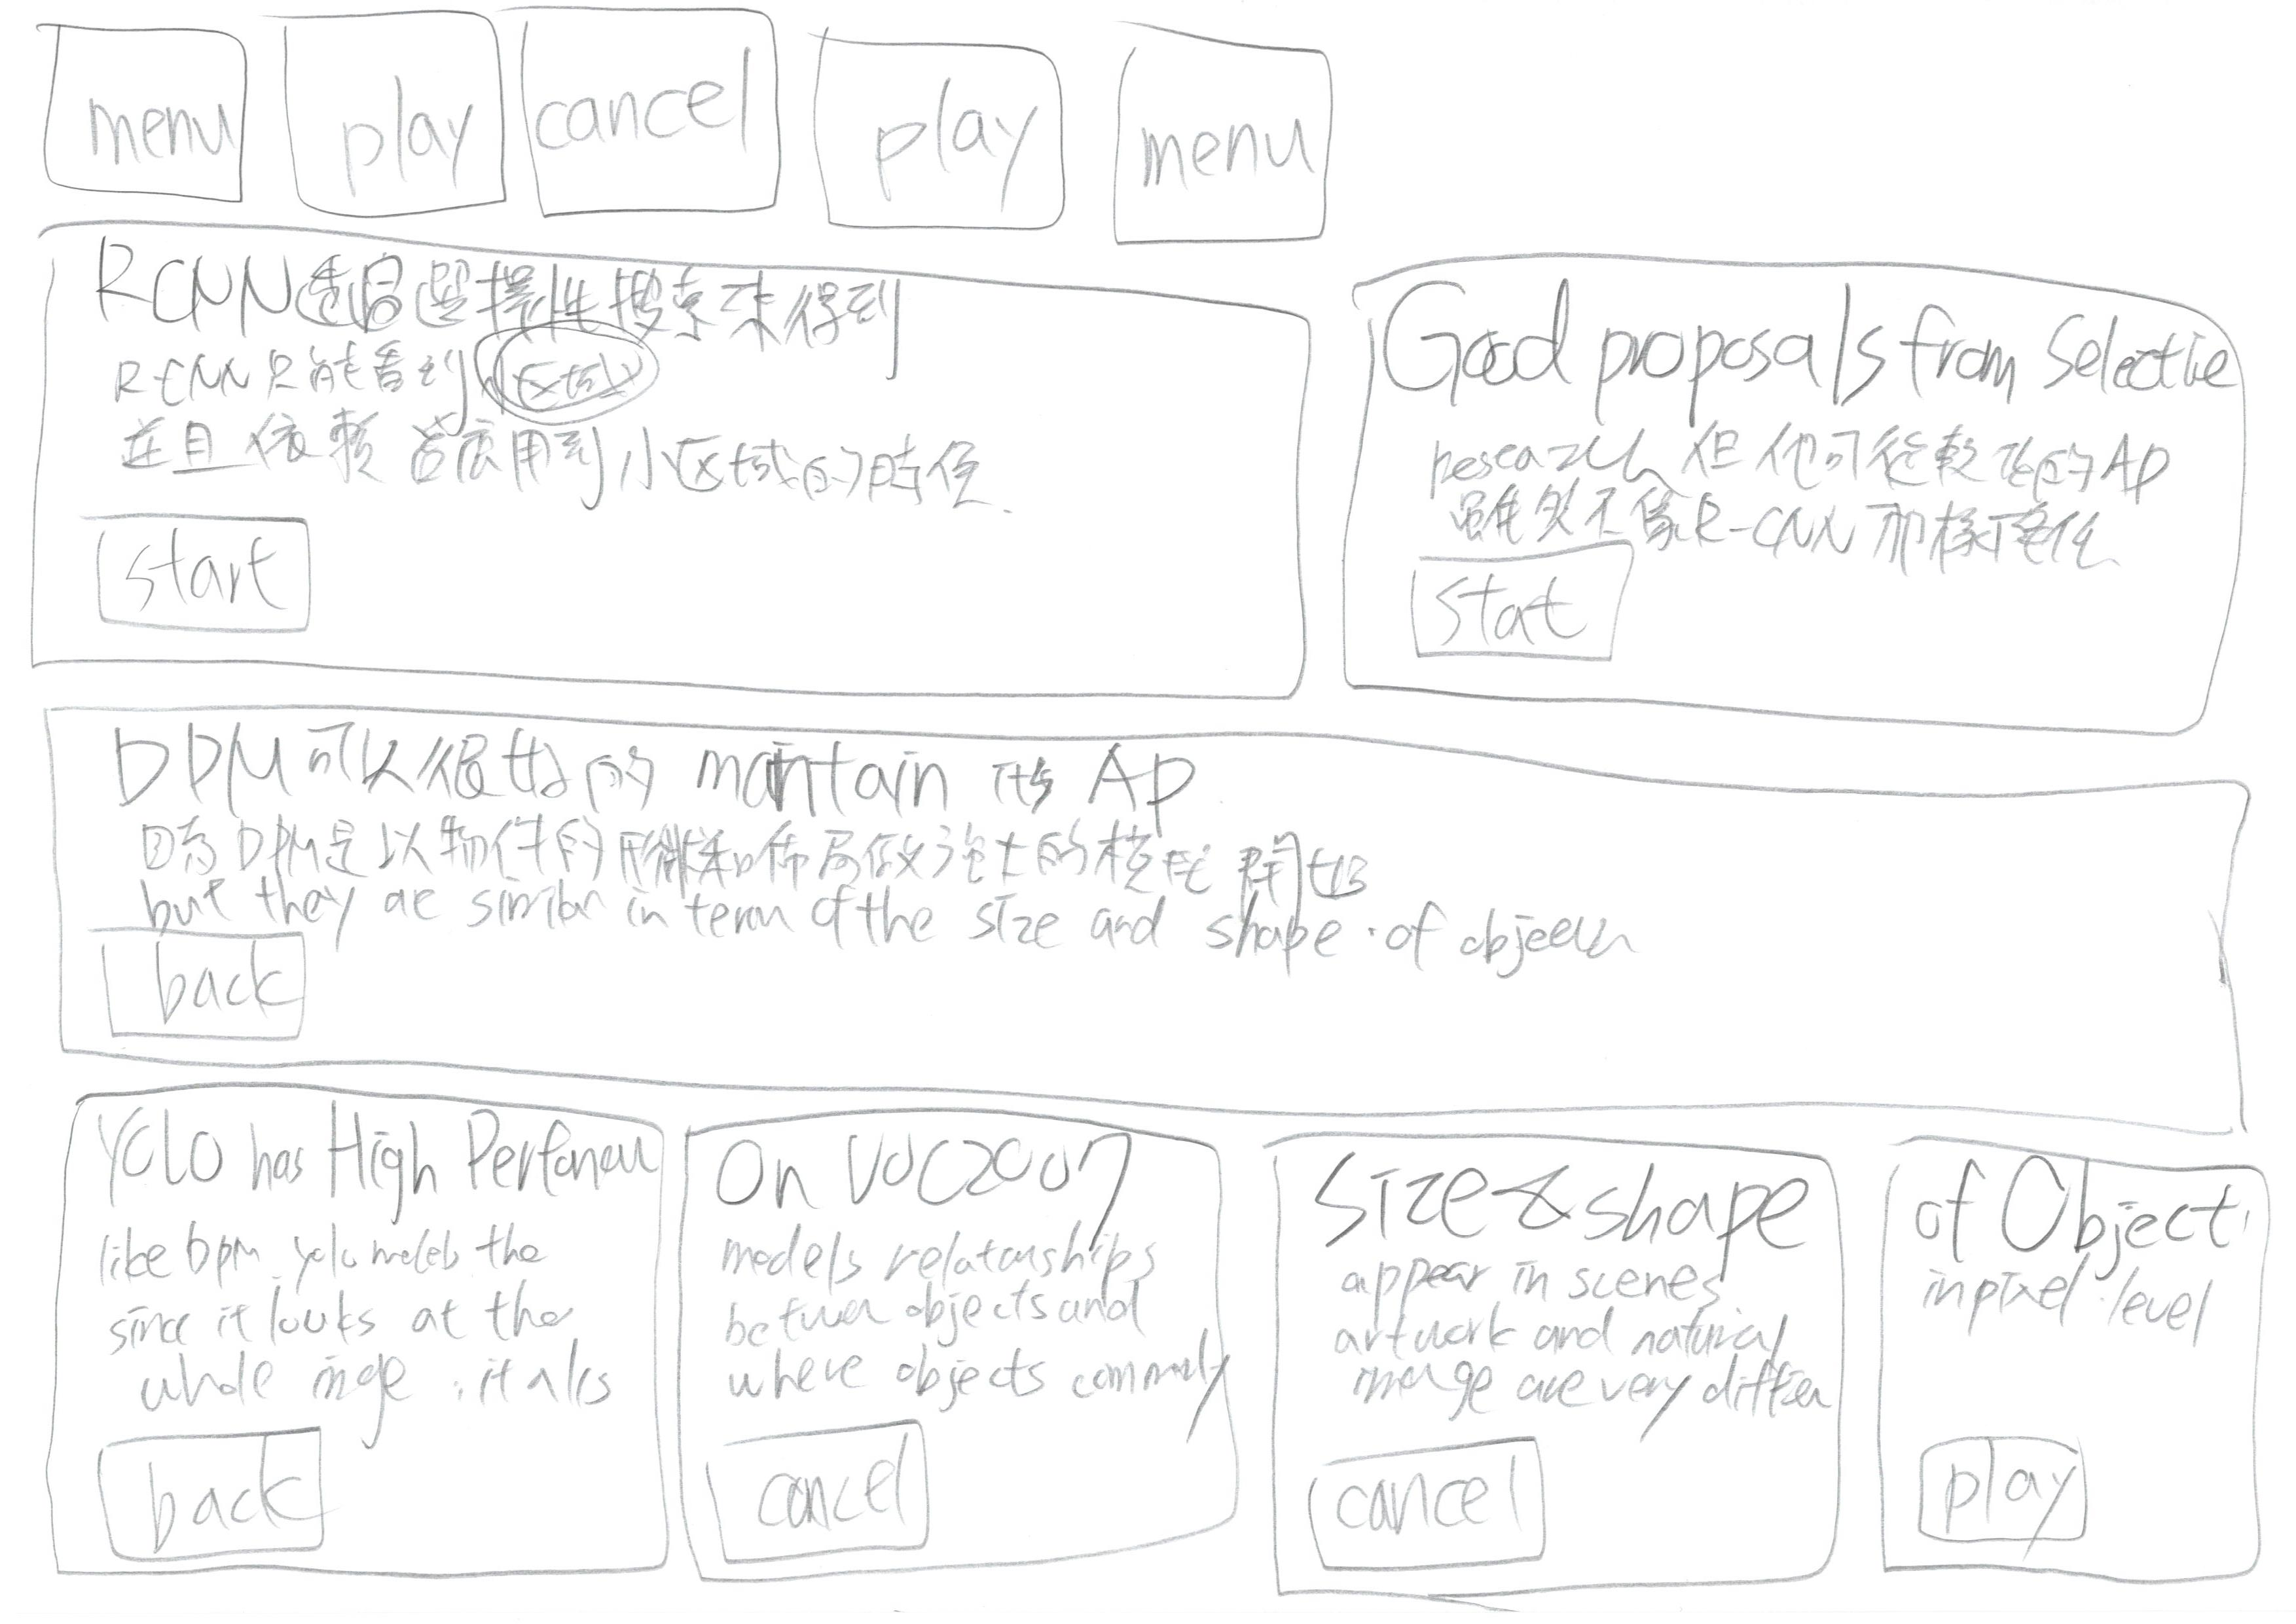back: (70, 905, 346, 1062), (72, 1422, 378, 1562)
cancel: (508, 0, 803, 239), (686, 1394, 979, 1564), (1282, 1438, 1607, 1591)
double: (18, 220, 1345, 724), (1320, 243, 2296, 770)
menu: (1090, 9, 1352, 279), (19, 0, 285, 227)
play: (798, 0, 1094, 267), (255, 0, 531, 237), (1895, 1418, 2104, 1564)
quadruple: (35, 1067, 666, 1624), (608, 1067, 1239, 1624), (1241, 1067, 1872, 1624), (1839, 1067, 2296, 1624)
row: (4, 197, 2296, 782), (4, 1076, 2296, 1624), (0, 4, 2296, 290)
single: (19, 691, 2296, 1155)
small-title: (88, 241, 902, 418), (113, 721, 1215, 840), (1378, 278, 2206, 424), (1303, 1142, 1811, 1267), (76, 1114, 643, 1216), (726, 1132, 1148, 1230), (1922, 1162, 2242, 1287)
start: (1380, 531, 1656, 682), (72, 508, 325, 642)
text: (156, 828, 1677, 968), (113, 346, 985, 487), (1445, 420, 2201, 576), (67, 1213, 608, 1411), (721, 1222, 1204, 1417), (1340, 1262, 1807, 1417), (1906, 1264, 2257, 1339)
